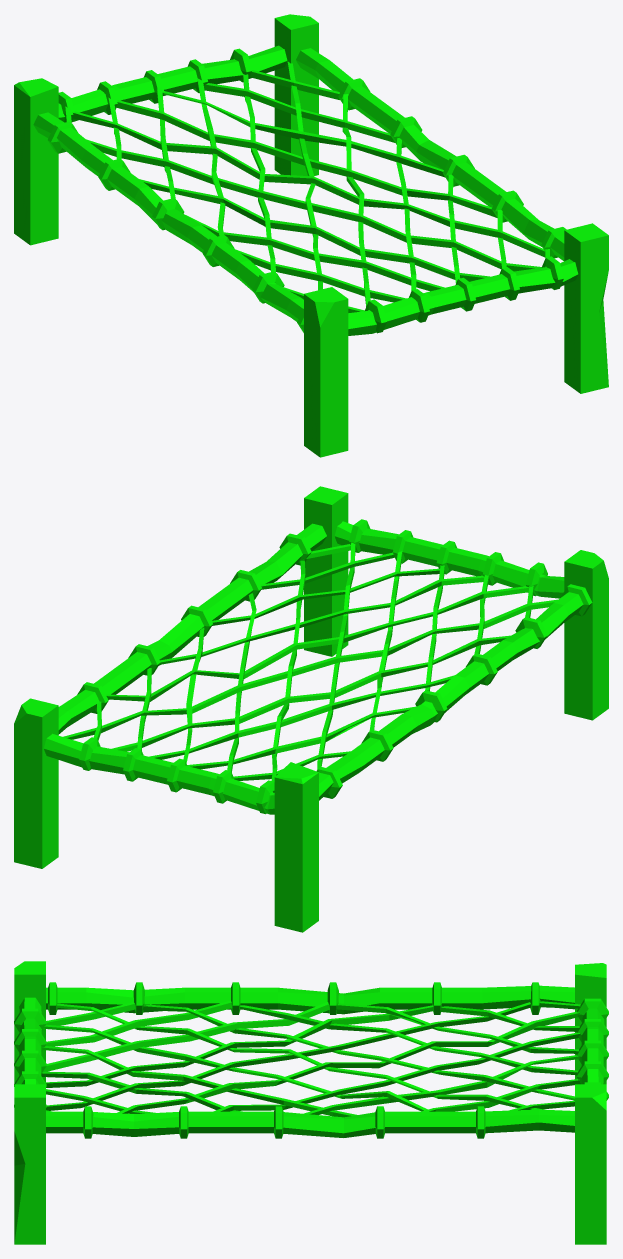
File: SM_Bed_Single_Rope_A_Fantasy.fbx
3 renders of one model, top to bottom at view 1: azimuth 30°, elevation 25°; view 2: azimuth 150°, elevation 25°; view 3: azimuth 270°, elevation 25°, orthographic. The views are drawn at different scales.
Visible parts, largest first — view 1: bed-single-rope-a-fantasy; view 2: bed-single-rope-a-fantasy; view 3: bed-single-rope-a-fantasy.
Part boxes in pixels (x1,y1,x2,y2): bed-single-rope-a-fantasy: (14, 14, 608, 457); bed-single-rope-a-fantasy: (14, 486, 608, 932); bed-single-rope-a-fantasy: (14, 961, 608, 1244).
Size of the model in its own units: 1.19 by 0.591 by 2.17.
